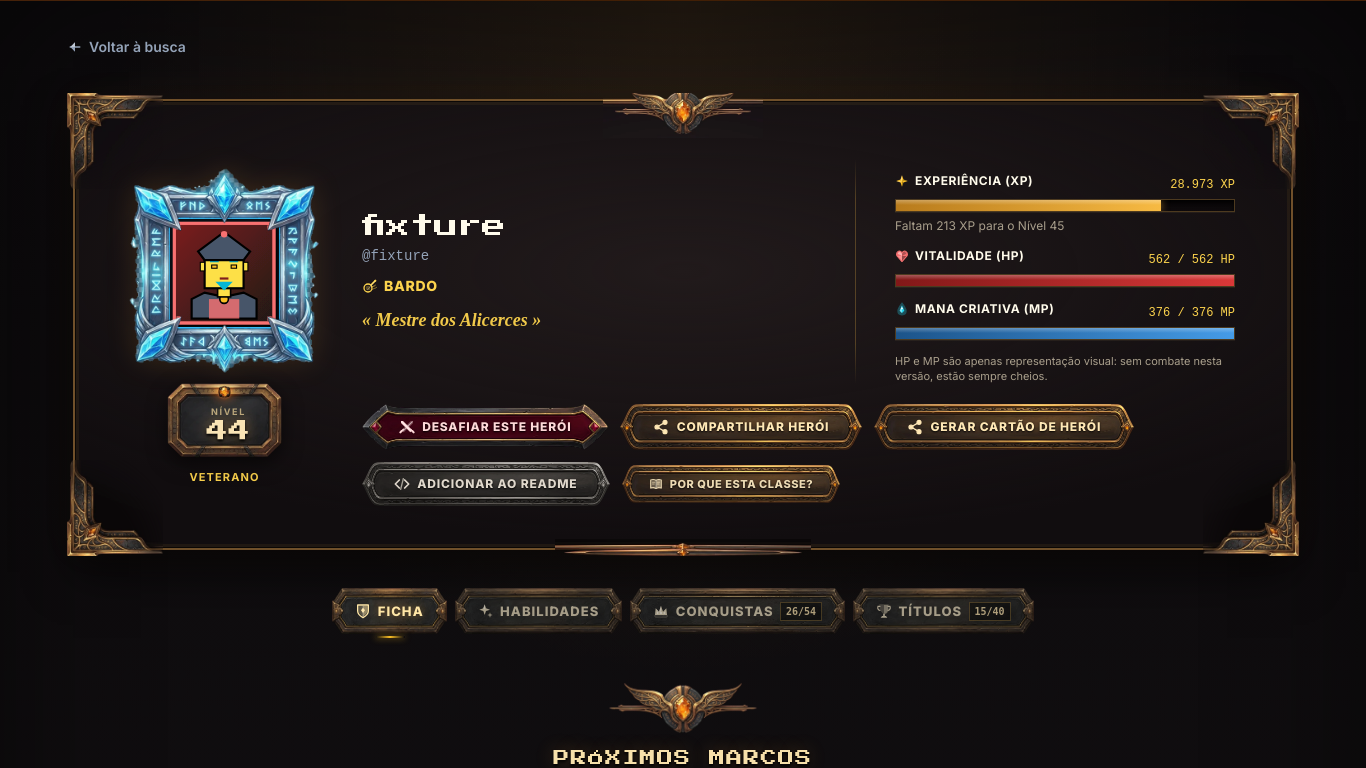
header and 'Por que esta classe?' share one V2 result › class without subclass: sheet shows only the class, modal says there is no specialization
Click the button "Por que esta classe?" at x=731, y=484, box [622,465,840,503]
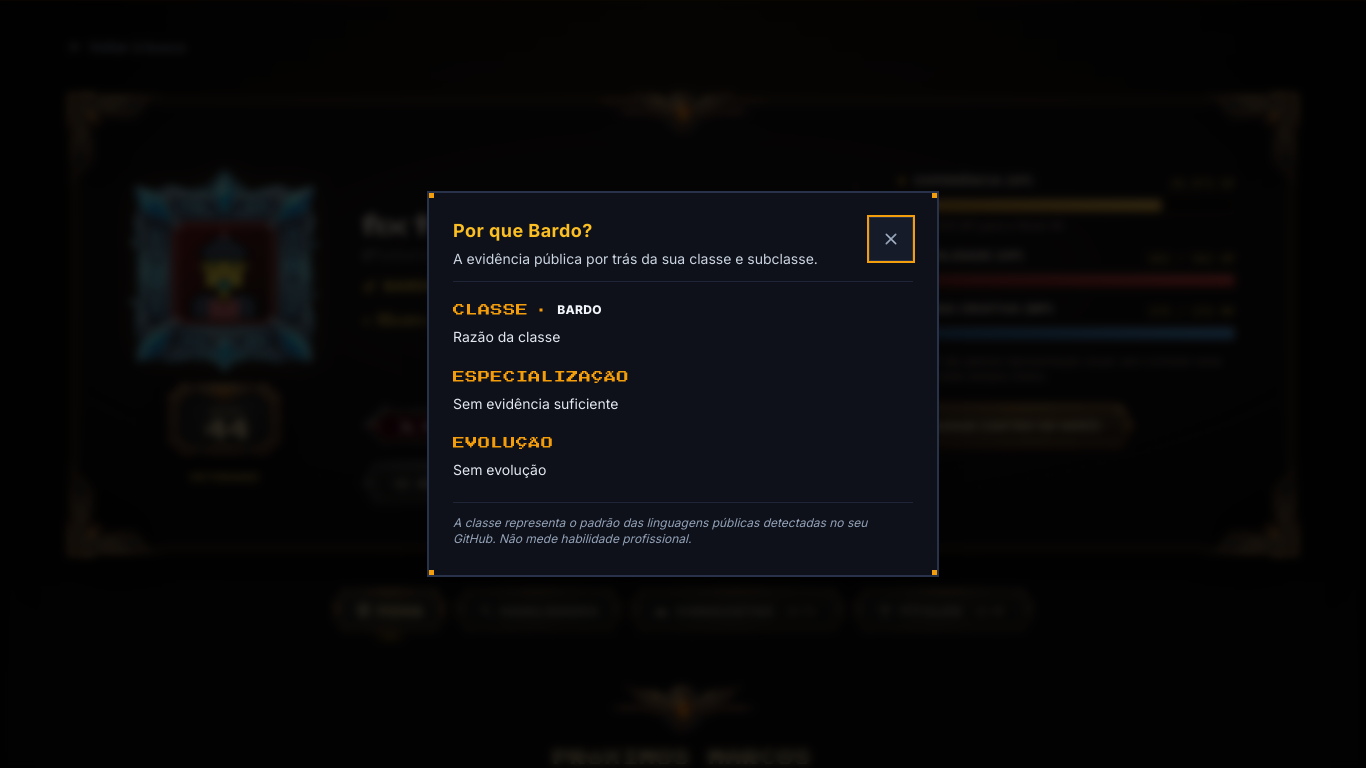
Expected: the text "Sem evidência suficiente" is shown, [453,395,618,412]
